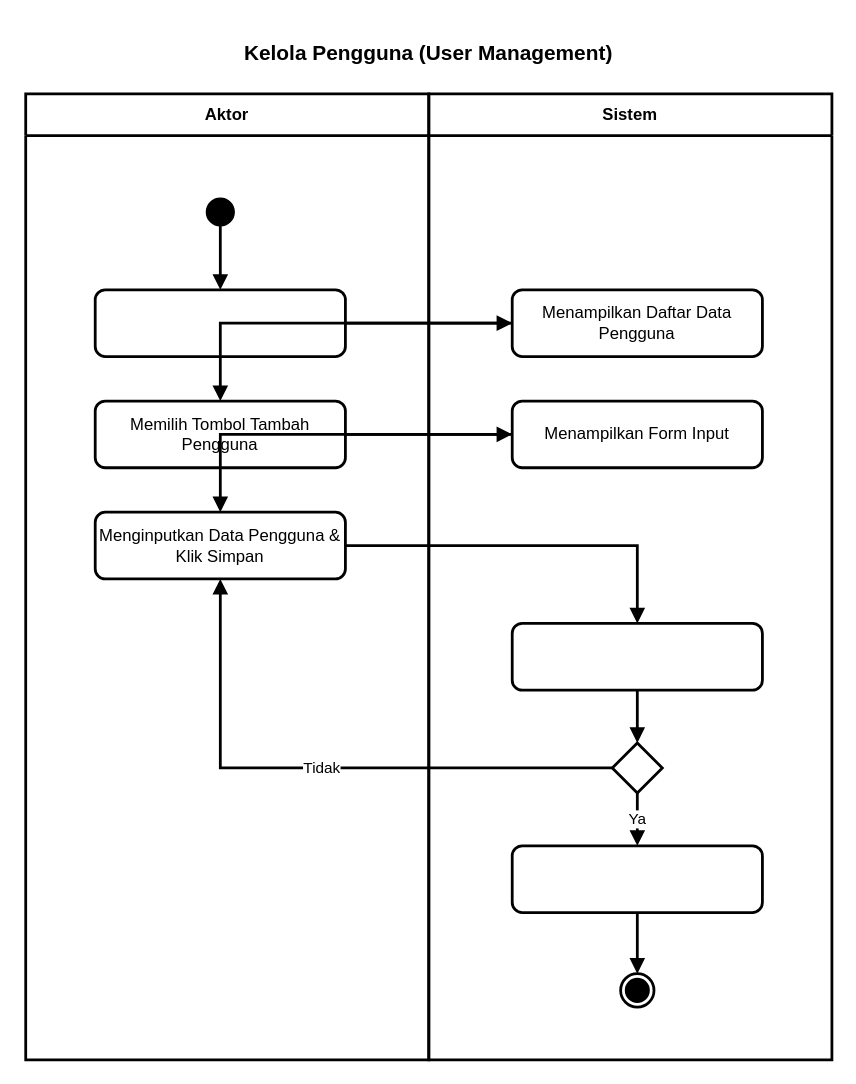
This 856x1084 diagram has some shape labels left out. Here are the shapes that lost their labels. From the top down, the box of each, then its label:
(93, 288, 346, 357): Memilih Menu Kelola Pengguna
(510, 621, 763, 691): Memvalidasi Data
(510, 844, 763, 913): Menyimpan Data ke Database & Tampilkan Pesan Sukses
